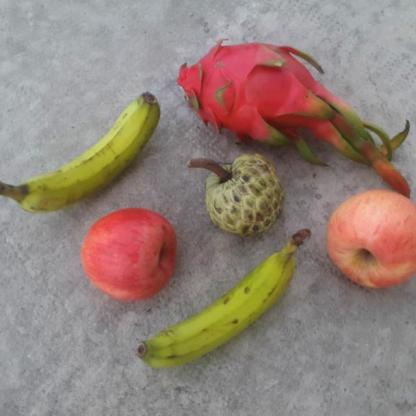annona: (188, 151, 286, 238)
apple: (78, 207, 177, 303), (322, 189, 416, 290)
banana: (131, 228, 312, 374), (0, 93, 162, 214)
pitaya: (176, 35, 340, 152)
